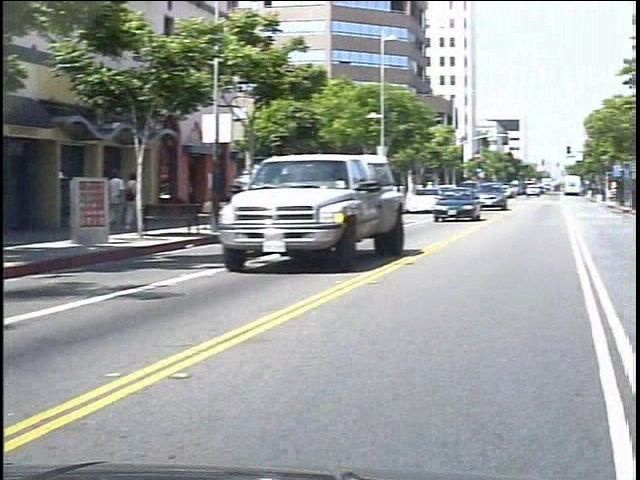person: (119, 169, 140, 232), (137, 170, 151, 234)
